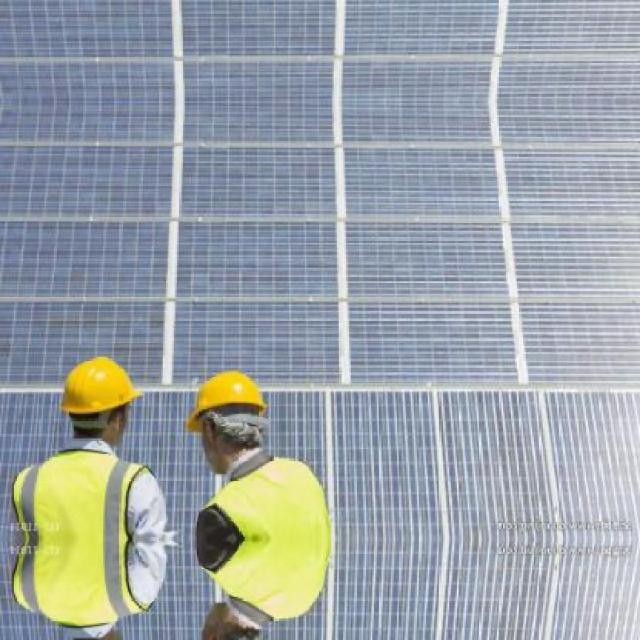helmet: (183, 358, 274, 464), (50, 346, 142, 445), (183, 611, 275, 638)
